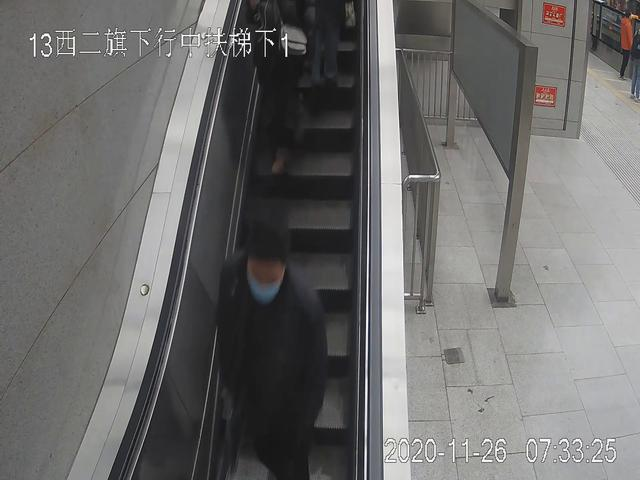person: (217, 222, 327, 480), (247, 1, 309, 177), (620, 10, 635, 77)
